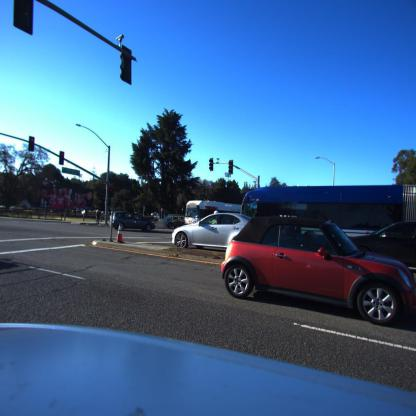car: (222, 219, 416, 326), (353, 220, 416, 278), (172, 213, 252, 253), (112, 211, 157, 232), (158, 215, 186, 229)
traffic light: (13, 1, 35, 35), (120, 48, 136, 84), (29, 138, 35, 152), (60, 152, 66, 166), (229, 160, 234, 176), (228, 161, 233, 176), (208, 160, 213, 173)
truck: (183, 200, 241, 226)
